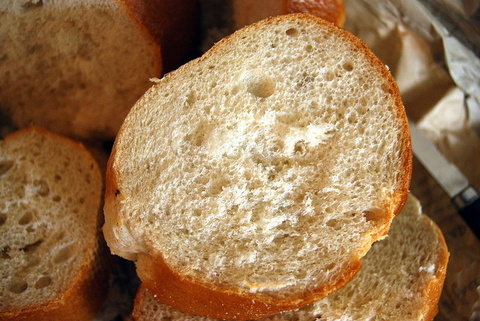slice of bread: (85, 38, 437, 302)
